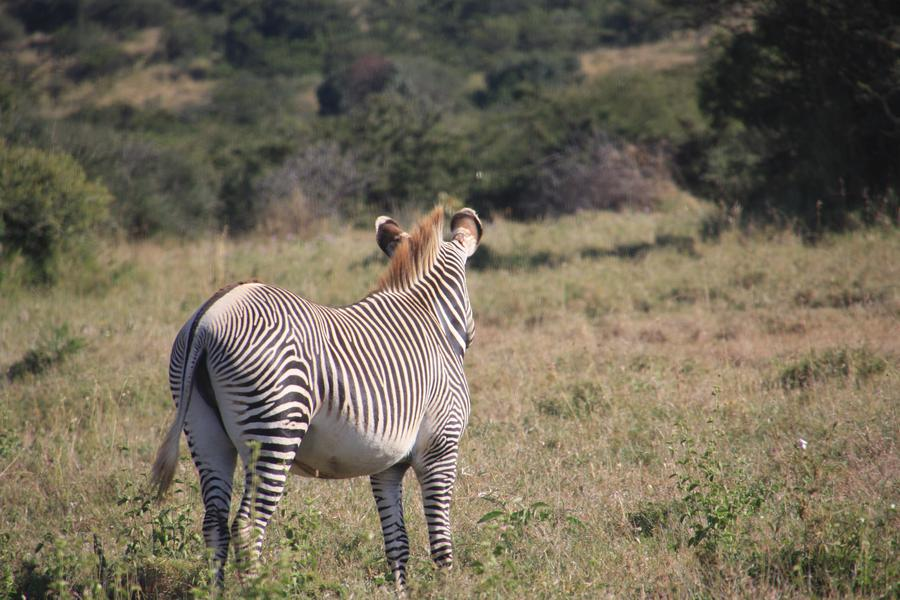zebra_grevys: (189, 267, 471, 438)
